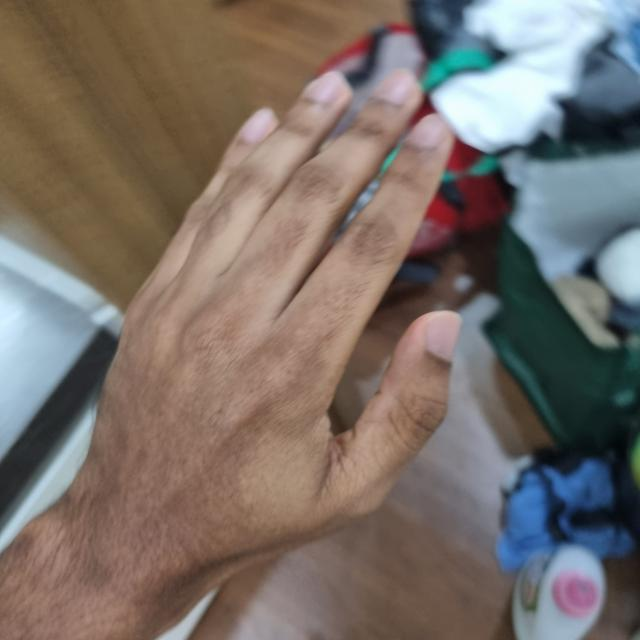Paper: (76, 68, 456, 581)
